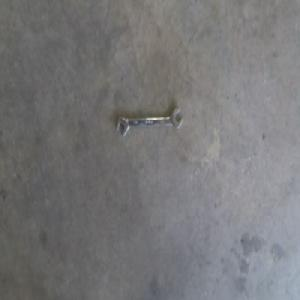Wrench: (116, 107, 183, 134)
